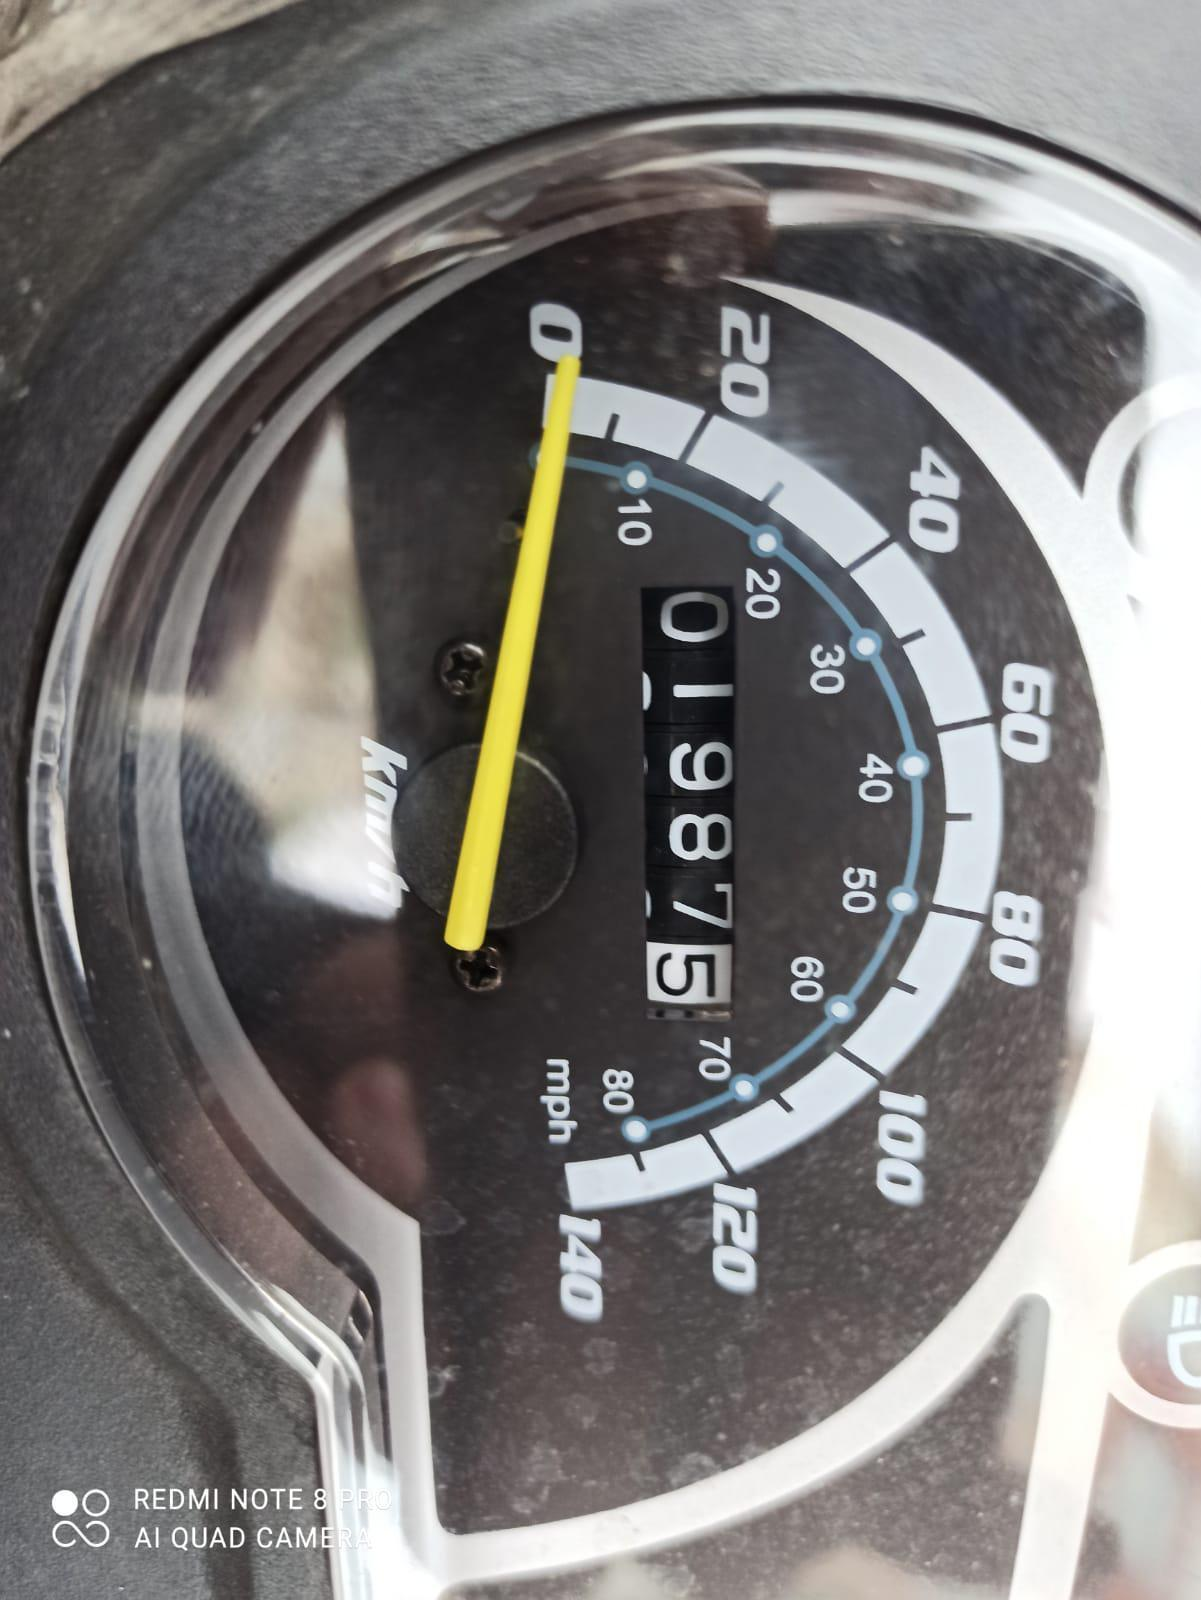0: (652, 591, 735, 649)
1: (655, 673, 743, 713)
5: (653, 948, 724, 1003)
7: (662, 879, 746, 941)
8: (655, 813, 741, 866)
9: (657, 736, 735, 797)
odometer: (624, 573, 752, 1028)
